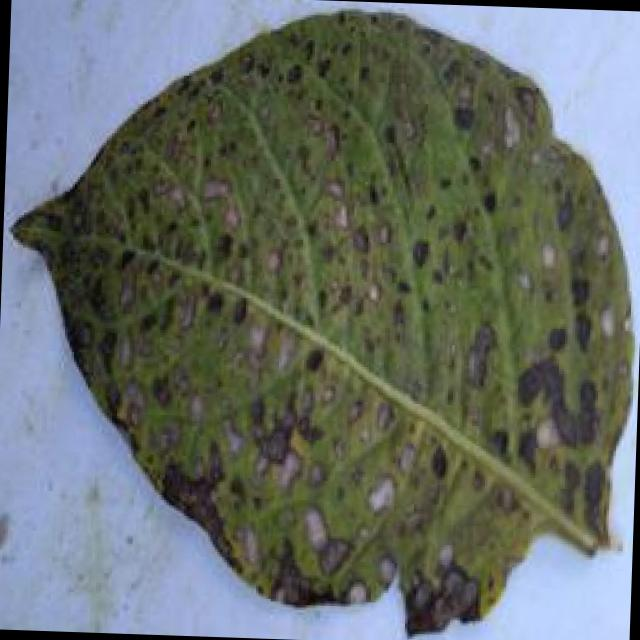Potato_Early_Blight: (0, 5, 639, 640)
